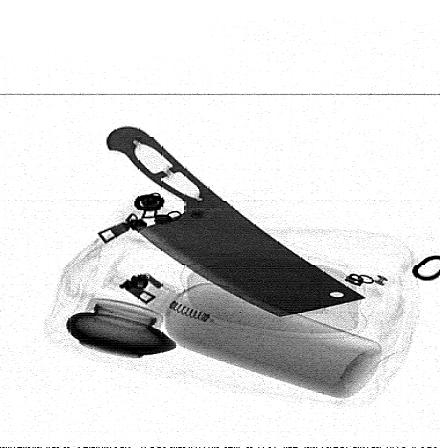Knife: (105, 124, 368, 319)
